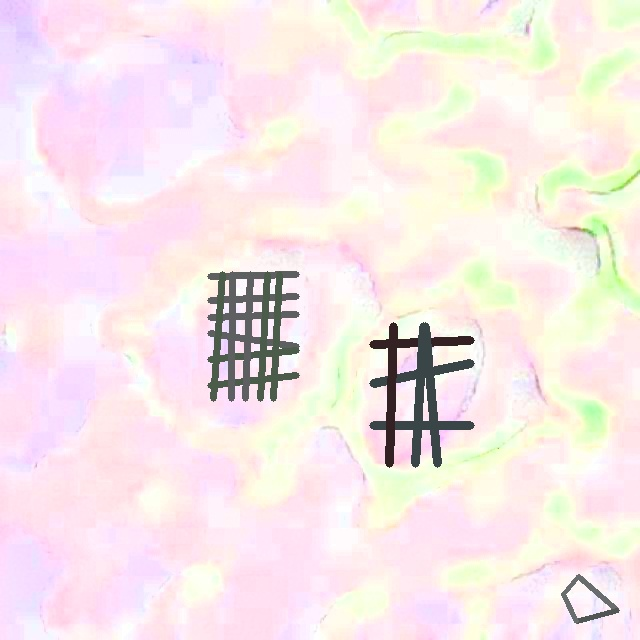close: (369, 322, 474, 467)
open: (208, 271, 298, 401), (561, 574, 619, 623)
